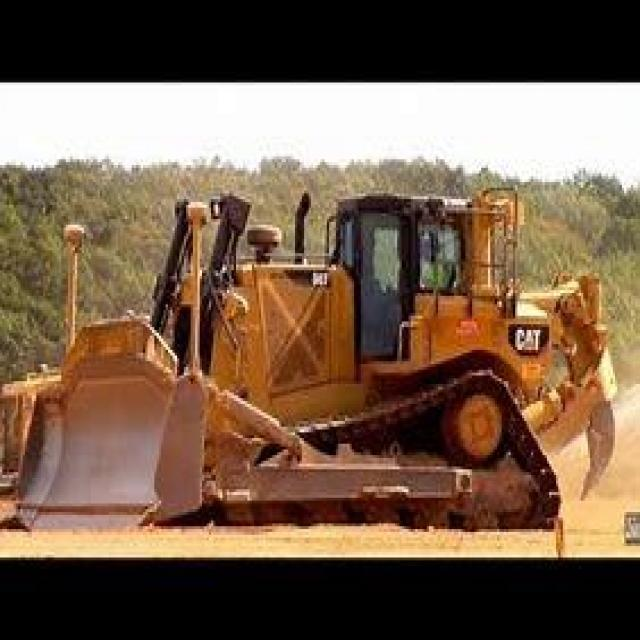Bulldozer: (9, 151, 638, 546)
